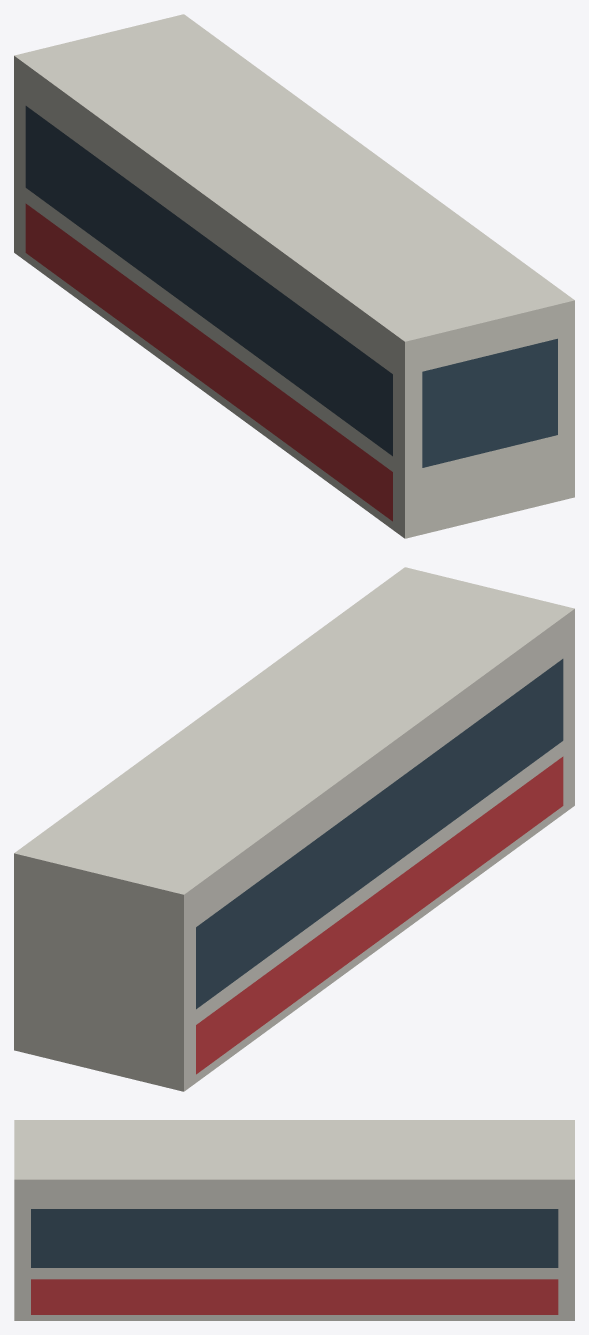
Rendered from 314_far.fbx.
3 views of the same model, one above another, from view 1: azimuth 30°, elevation 25°; view 2: azimuth 150°, elevation 25°; view 3: azimuth 270°, elevation 25° (orthographic). The views are drawn at different scales.
Visible parts, largest first — view 1: 314_far; view 2: 314_far; view 3: 314_far.
Part boxes in pixels (x1,y1,x2,y2): 314_far: (14, 14, 574, 538); 314_far: (14, 567, 574, 1091); 314_far: (14, 1120, 574, 1320).
Bounding box in the file's own units: 2.52 × 2.78 × 10.
